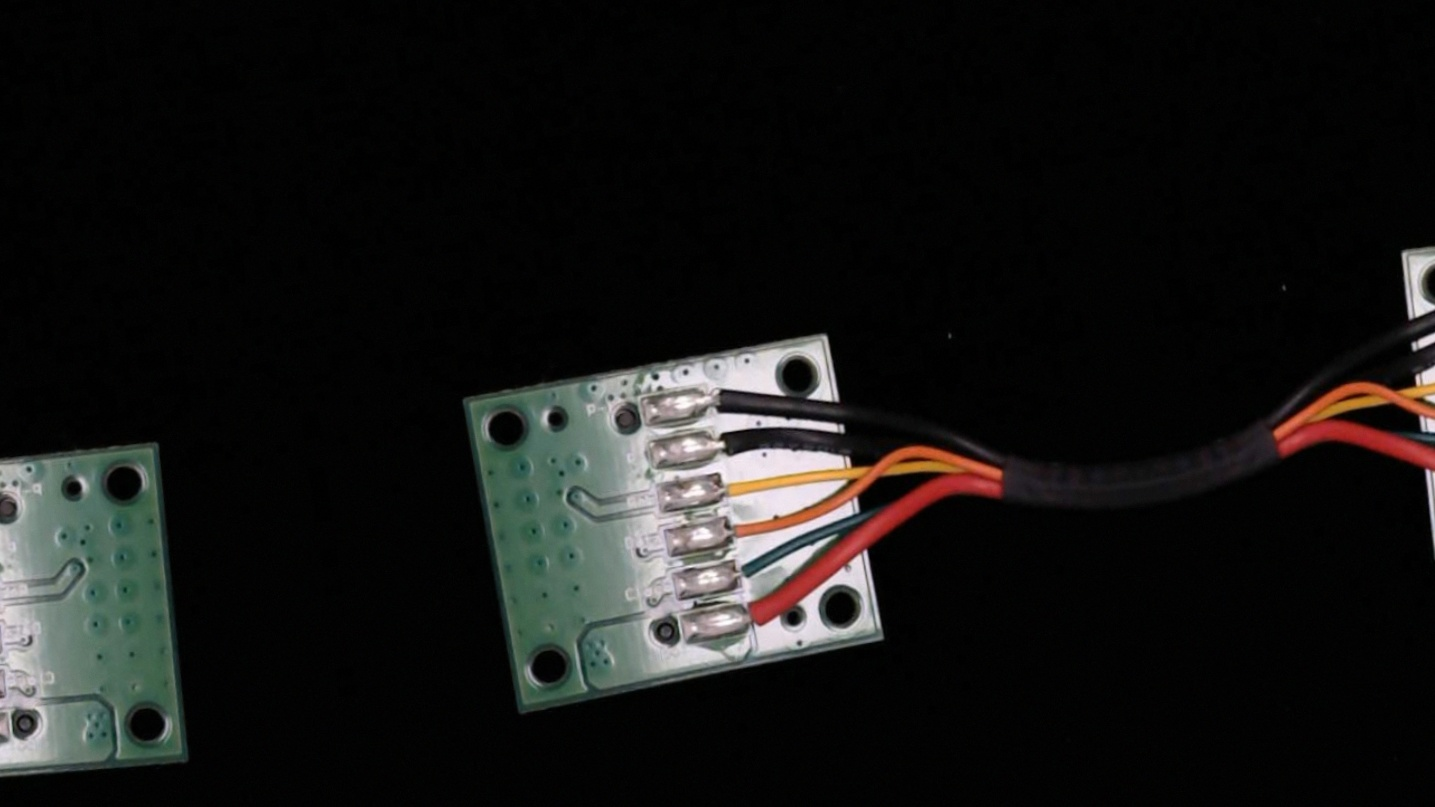Black: (690, 418, 778, 468)
Black1: (679, 373, 760, 421)
Green: (712, 552, 783, 596)
Orange: (709, 505, 791, 551)
Red: (722, 590, 806, 640)
Yellow: (699, 458, 787, 509)
